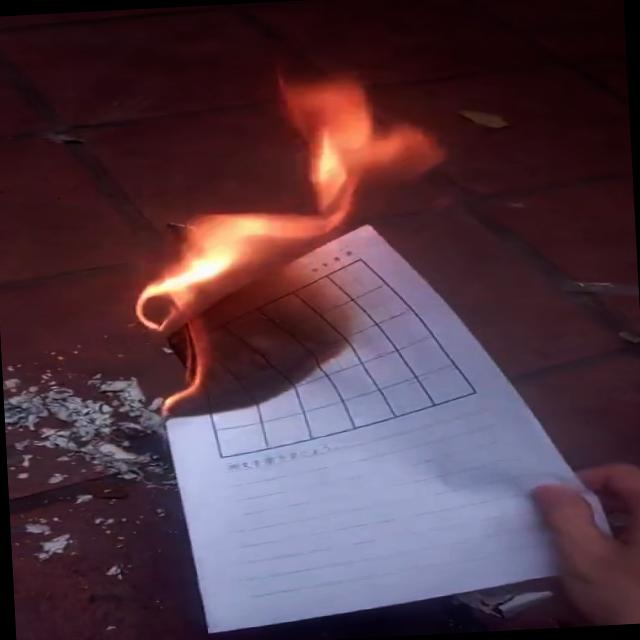Fire_Dangerous: (112, 61, 464, 418)
